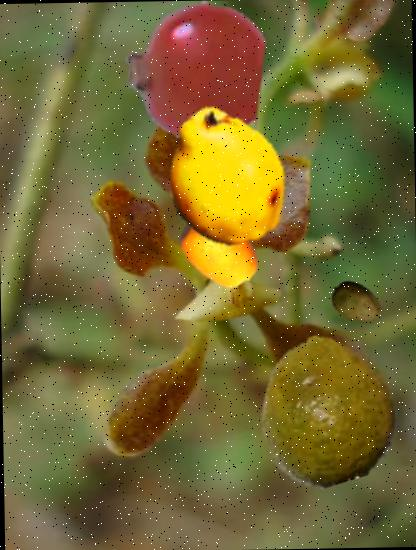Guava: (250, 334, 402, 486)
Kumquats: (174, 205, 264, 294)
Papaya: (328, 274, 385, 331)
Quince: (152, 100, 301, 249)
Redcurrant: (123, 0, 266, 142)
